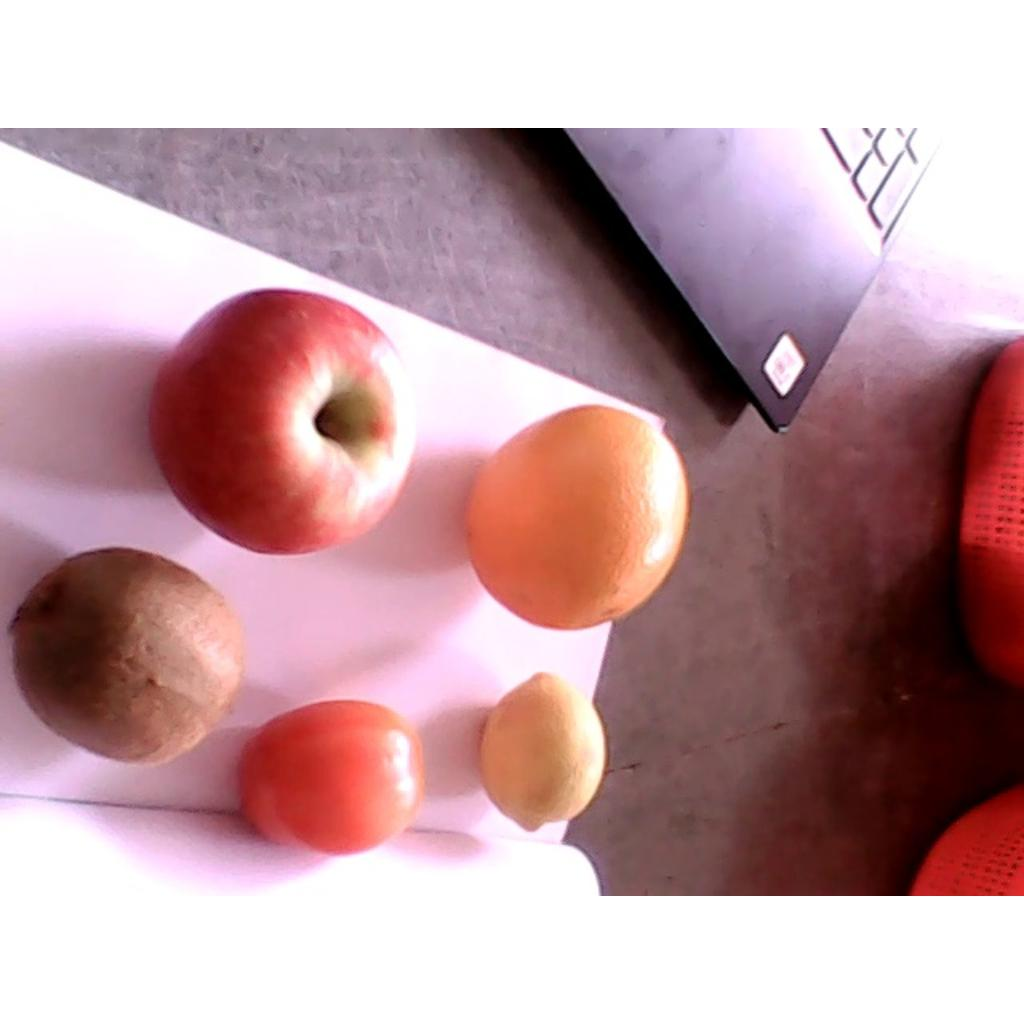apple: (148, 290, 422, 553)
kiwi: (7, 548, 247, 764)
lemon: (478, 672, 607, 833)
orange: (467, 405, 691, 629)
tomato: (234, 701, 427, 852)
